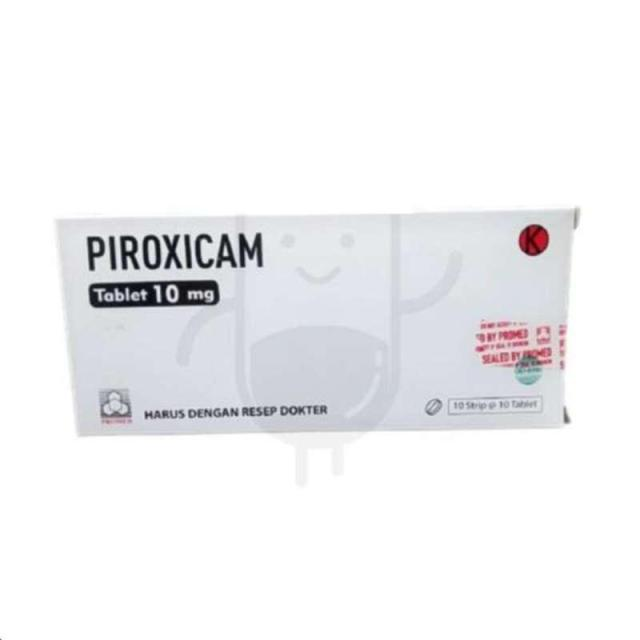drug-name: (78, 228, 270, 278)
